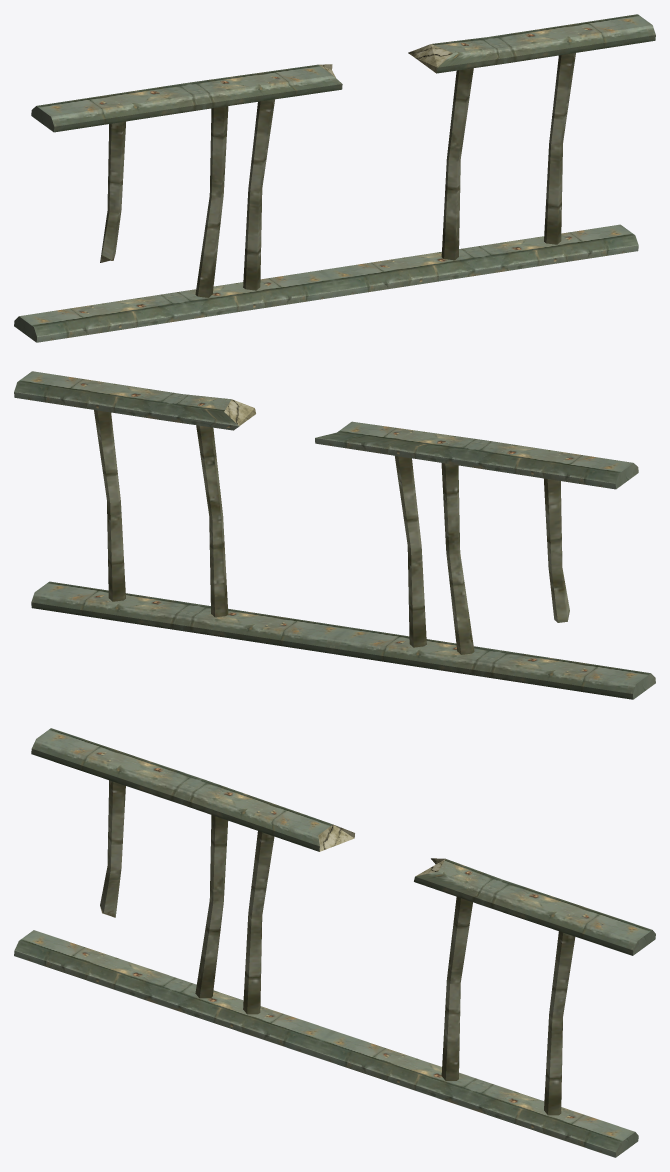
Rendered from fence-06.fbx.
3 renders of one model, top to bottom at view 1: azimuth 30°, elevation 25°; view 2: azimuth 150°, elevation 25°; view 3: azimuth 330°, elevation 25°, orthographic.
Parts seen in each view (by area): view 1: Cube.177; view 2: Cube.177; view 3: Cube.177.
Boxes of the visible parts, box(x1,y1,x2,y2) form: Cube.177: box(14, 14, 655, 342); Cube.177: box(14, 371, 655, 699); Cube.177: box(14, 728, 655, 1157).
Size of the model in its own units: 2.05 by 0.8664 by 0.13.
